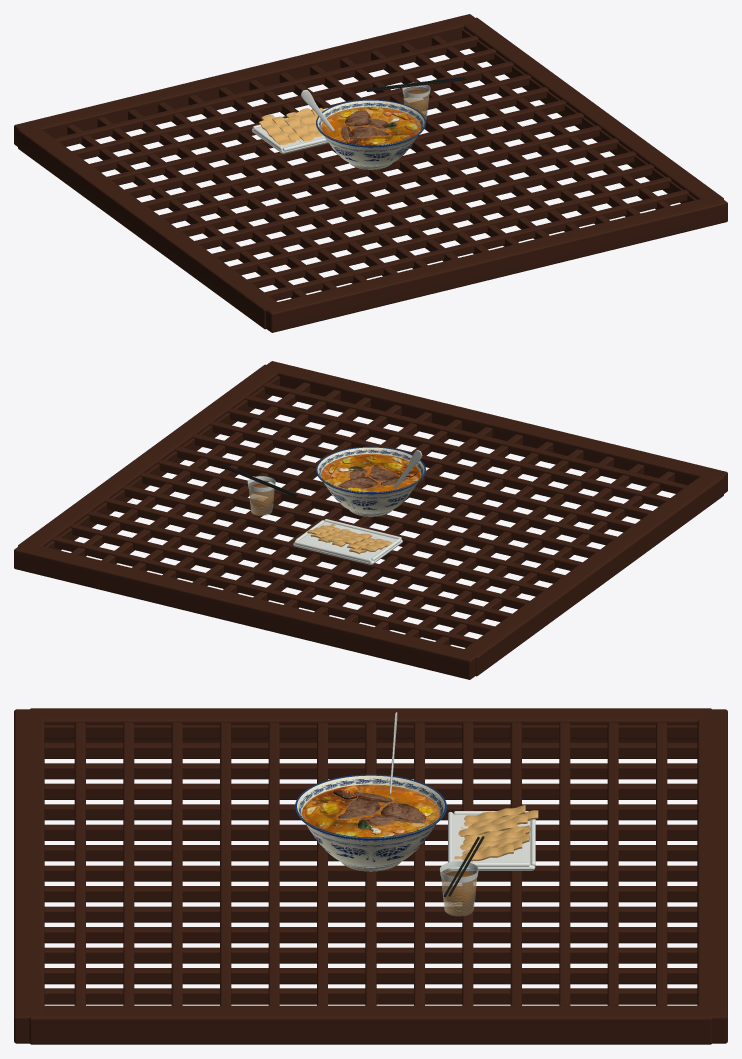
The model's file is lamian.glb.
3 renders of one model, top to bottom at view 1: azimuth 30°, elevation 25°; view 2: azimuth 150°, elevation 25°; view 3: azimuth 270°, elevation 25°, orthographic. The views are drawn at different scales.
Visible parts, largest first — view 1: Table heavy timber frame, Table heavy timber frame.002, Table heavy timber frame.001, Table heavy timber frame.003, Lattice long rail -1, Lattice long rail -4, Lattice long rail -3, Lattice long rail -5, Lattice long rail -6, Lattice long rail -2, Lattice long rail 6, Lattice long rail 5 (+21 smaller); view 2: Table heavy timber frame.001, Table heavy timber frame.002, Table heavy timber frame, Table heavy timber frame.003, Lattice long rail 4, Lattice long rail 5, Lattice long rail 6, Lattice long rail -5, Lattice long rail -6, Lattice long rail 3, Lattice long rail 0, Lattice long rail -4 (+24 smaller); view 3: Table heavy timber frame.003, Table heavy timber frame.002, Table heavy timber frame, Table heavy timber frame.001, Lattice cross rail 6, Lattice cross rail 3, Lattice cross rail 4, Lattice cross rail 5, Lattice cross rail -6, Lattice cross rail 2, Lattice cross rail 1, Lattice cross rail -5 (+27 smaller).
Part boxes in pixels (x1,y1,x2,y2): Table heavy timber frame: (263, 195, 727, 332); Table heavy timber frame.002: (18, 128, 277, 329); Table heavy timber frame.001: (14, 14, 478, 146); Table heavy timber frame.003: (464, 17, 723, 203); Lattice long rail -1: (177, 125, 601, 236); Lattice long rail -4: (230, 164, 653, 275); Lattice long rail -3: (212, 151, 636, 262); Lattice long rail -5: (247, 177, 671, 287); Lattice long rail -6: (265, 189, 688, 300); Lattice long rail -2: (195, 138, 618, 249); Lattice long rail 6: (54, 35, 478, 146); Lattice long rail 5: (72, 48, 496, 159); Table heavy timber frame.001: (14, 542, 478, 679); Table heavy timber frame.002: (464, 475, 723, 676); Table heavy timber frame: (263, 361, 727, 493); Table heavy timber frame.003: (18, 364, 277, 550); Lattice long rail 4: (88, 511, 511, 622); Lattice long rail 5: (70, 524, 494, 634); Lattice long rail 6: (53, 536, 476, 647); Lattice long rail -5: (245, 395, 669, 506); Lattice long rail -6: (263, 382, 687, 493); Lattice long rail 3: (105, 498, 529, 609); Lattice long rail 0: (158, 459, 582, 570); Lattice long rail -4: (228, 408, 652, 519); Table heavy timber frame.003: (29, 1005, 712, 1044); Table heavy timber frame.002: (30, 708, 711, 742); Table heavy timber frame: (14, 709, 44, 1043); Table heavy timber frame.001: (697, 709, 727, 1043); Lattice cross rail 6: (44, 988, 697, 1004); Lattice cross rail 3: (44, 927, 697, 943); Lattice cross rail 4: (44, 947, 697, 963); Lattice cross rail 5: (44, 968, 697, 984); Lattice cross rail -6: (44, 742, 697, 758); Lattice cross rail 2: (44, 906, 697, 922); Lattice cross rail 1: (44, 886, 697, 902); Lattice cross rail -5: (44, 763, 697, 779).
Bounding box in the file's own units: 1.44 × 0.3011 × 1.4.
Materials: 41 (22 with a texture image).
